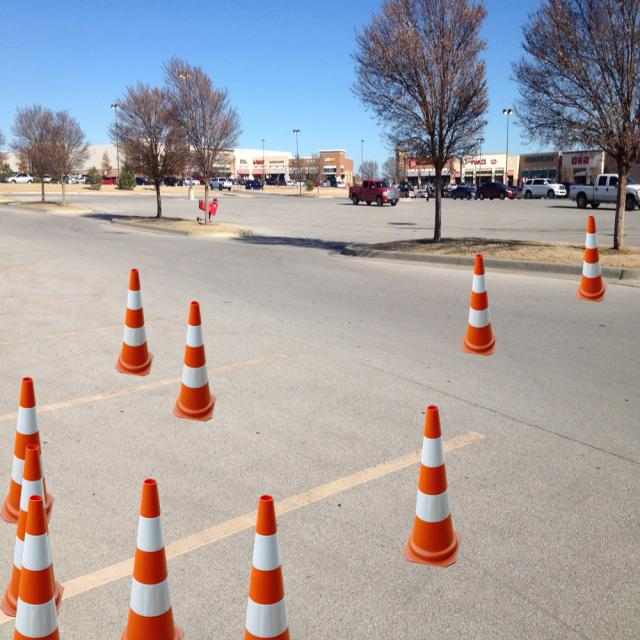large_orange_cone: (0, 445, 64, 622), (115, 478, 184, 640), (230, 495, 302, 640), (0, 495, 71, 640), (404, 406, 462, 568), (0, 377, 54, 527), (173, 301, 216, 422), (115, 269, 154, 376), (461, 254, 497, 356), (576, 216, 607, 302)
